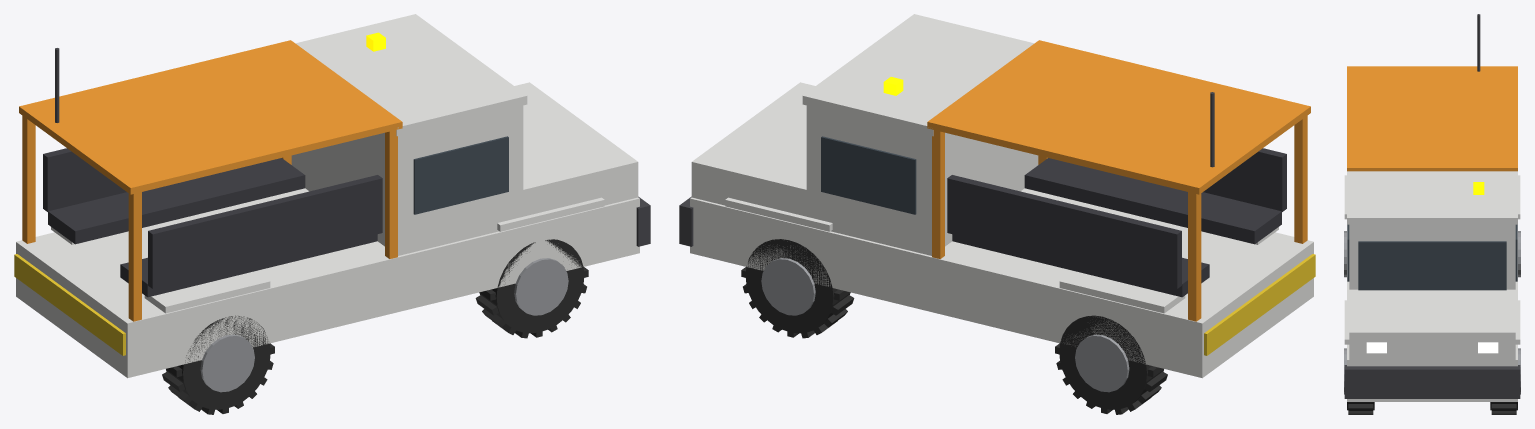
Rendered from EQ_UtilityVehicle.glb.
3 renders of one model, left to right at view 1: azimuth 30°, elevation 25°; view 2: azimuth 150°, elevation 25°; view 3: azimuth 270°, elevation 25°, orthographic. The views are drawn at different scales.
Visible parts, largest first — view 1: UV_Body, UV_Wheel_RR, UV_Wheel_FR; view 2: UV_Body, UV_Wheel_RL, UV_Wheel_FL; view 3: UV_Body, UV_Wheel_FL, UV_Wheel_FR.
Part boxes in pixels (bbox=[...]): UV_Body: bbox=[14, 14, 650, 378]; UV_Wheel_RR: bbox=[162, 315, 274, 414]; UV_Wheel_FR: bbox=[475, 239, 588, 338]; UV_Body: bbox=[679, 14, 1315, 378]; UV_Wheel_RL: bbox=[1055, 315, 1167, 414]; UV_Wheel_FL: bbox=[741, 239, 854, 338]; UV_Body: bbox=[1344, 14, 1520, 401]; UV_Wheel_FL: bbox=[1490, 348, 1520, 414]; UV_Wheel_FR: bbox=[1344, 348, 1374, 414].
Size of the model in its own units: 5.02 by 2.95 by 1.91.
